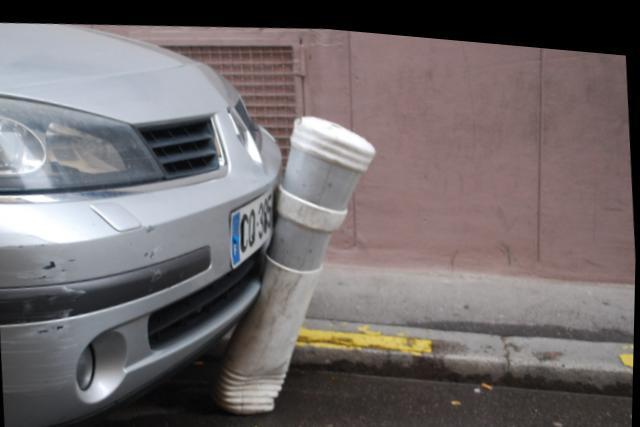scratch: (0, 220, 89, 396)
